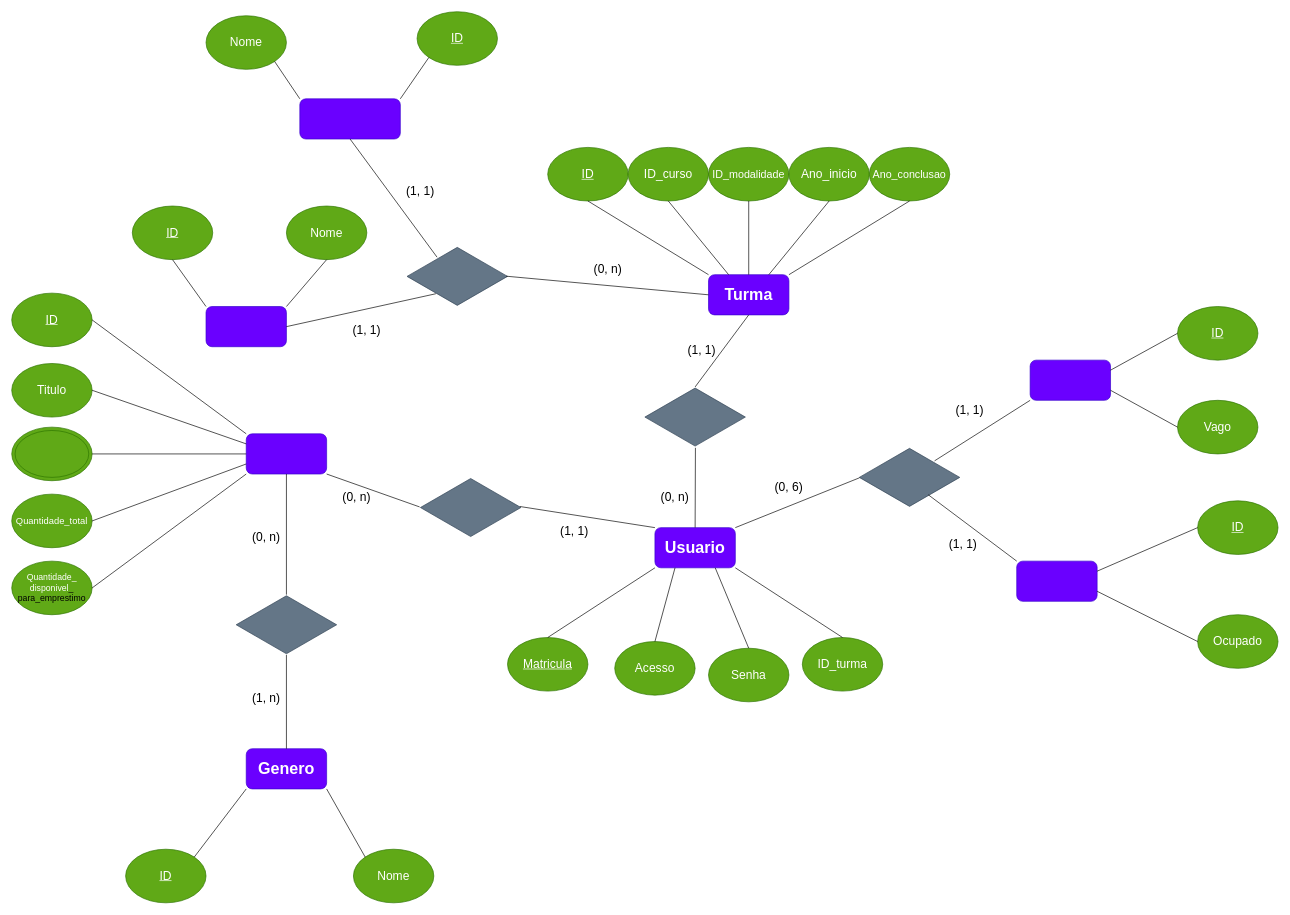
Image size: 1290x915. Some labels were removed from this diagram. Here are the shapes that lost their labels. From the top down, the box of each, then its label:
(299, 98, 400, 139): Modalidade
(406, 246, 508, 307): Possui
(205, 306, 286, 347): Curso
(1029, 359, 1111, 400): Armario
(644, 386, 745, 447): Vinculado
(14, 430, 89, 477): ID_Genero
(246, 433, 327, 474): Livro
(859, 447, 960, 508): Ocupa
(420, 477, 521, 538): Retira
(1016, 560, 1097, 601): Sala
(236, 594, 337, 655): Tem
